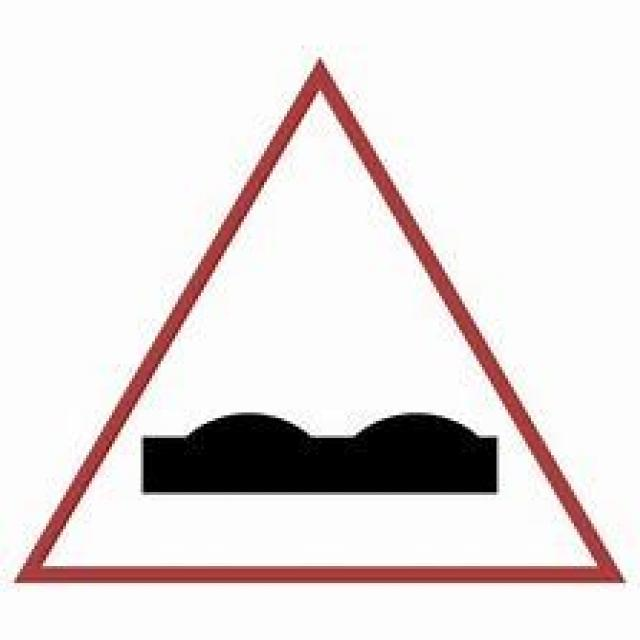HUMP_OR_ROUGH_ROAD: (12, 54, 626, 583)
